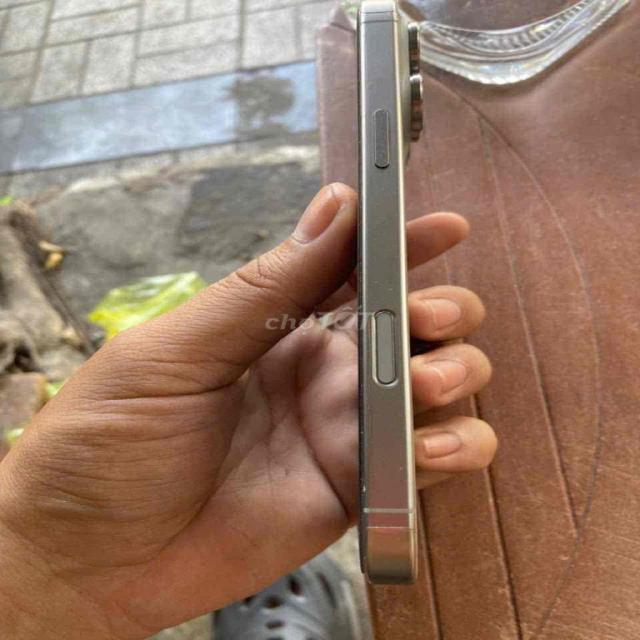gen_16: (354, 0, 422, 583)
